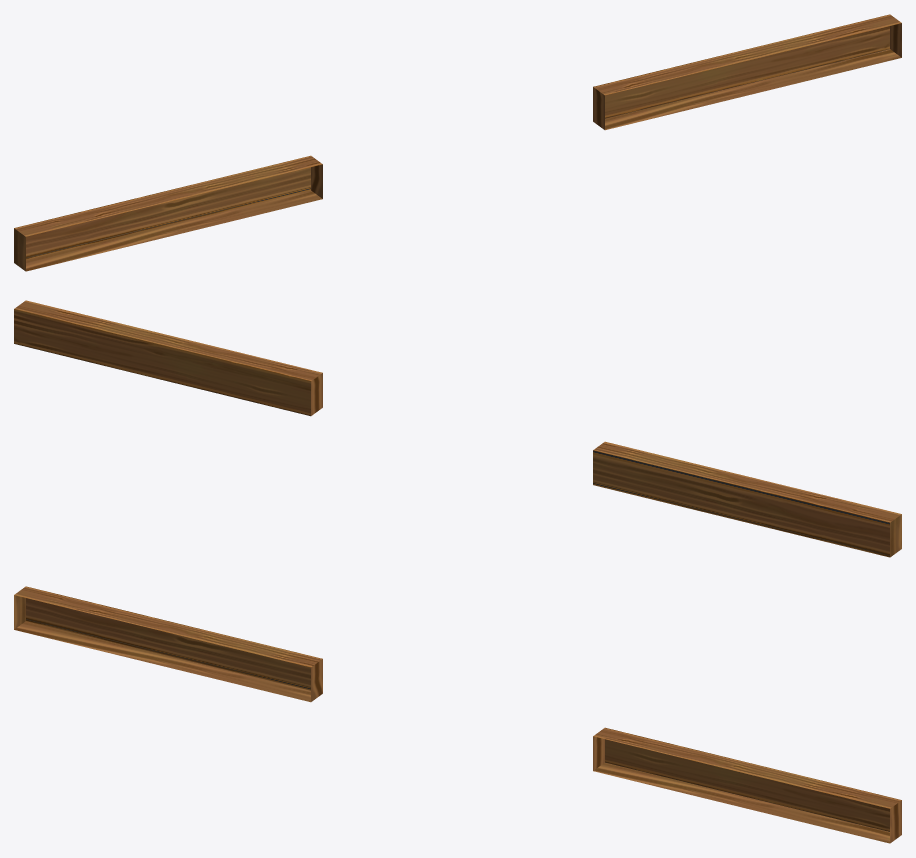
3 views of the same model, one above another, from view 1: azimuth 30°, elevation 25°; view 2: azimuth 150°, elevation 25°; view 3: azimuth 330°, elevation 25° (orthographic).
Visible parts, largest first — view 1: Cube.548; view 2: Cube.548; view 3: Cube.548.
Part boxes in pixels (box(x1,y1,x2,y2)): Cube.548: box(14, 14, 901, 271); Cube.548: box(14, 300, 901, 557); Cube.548: box(14, 586, 901, 843).
Bounding box in the file's own units: 555 × 21.09 × 13.03.
Materials: 1 (1 with a texture image).
